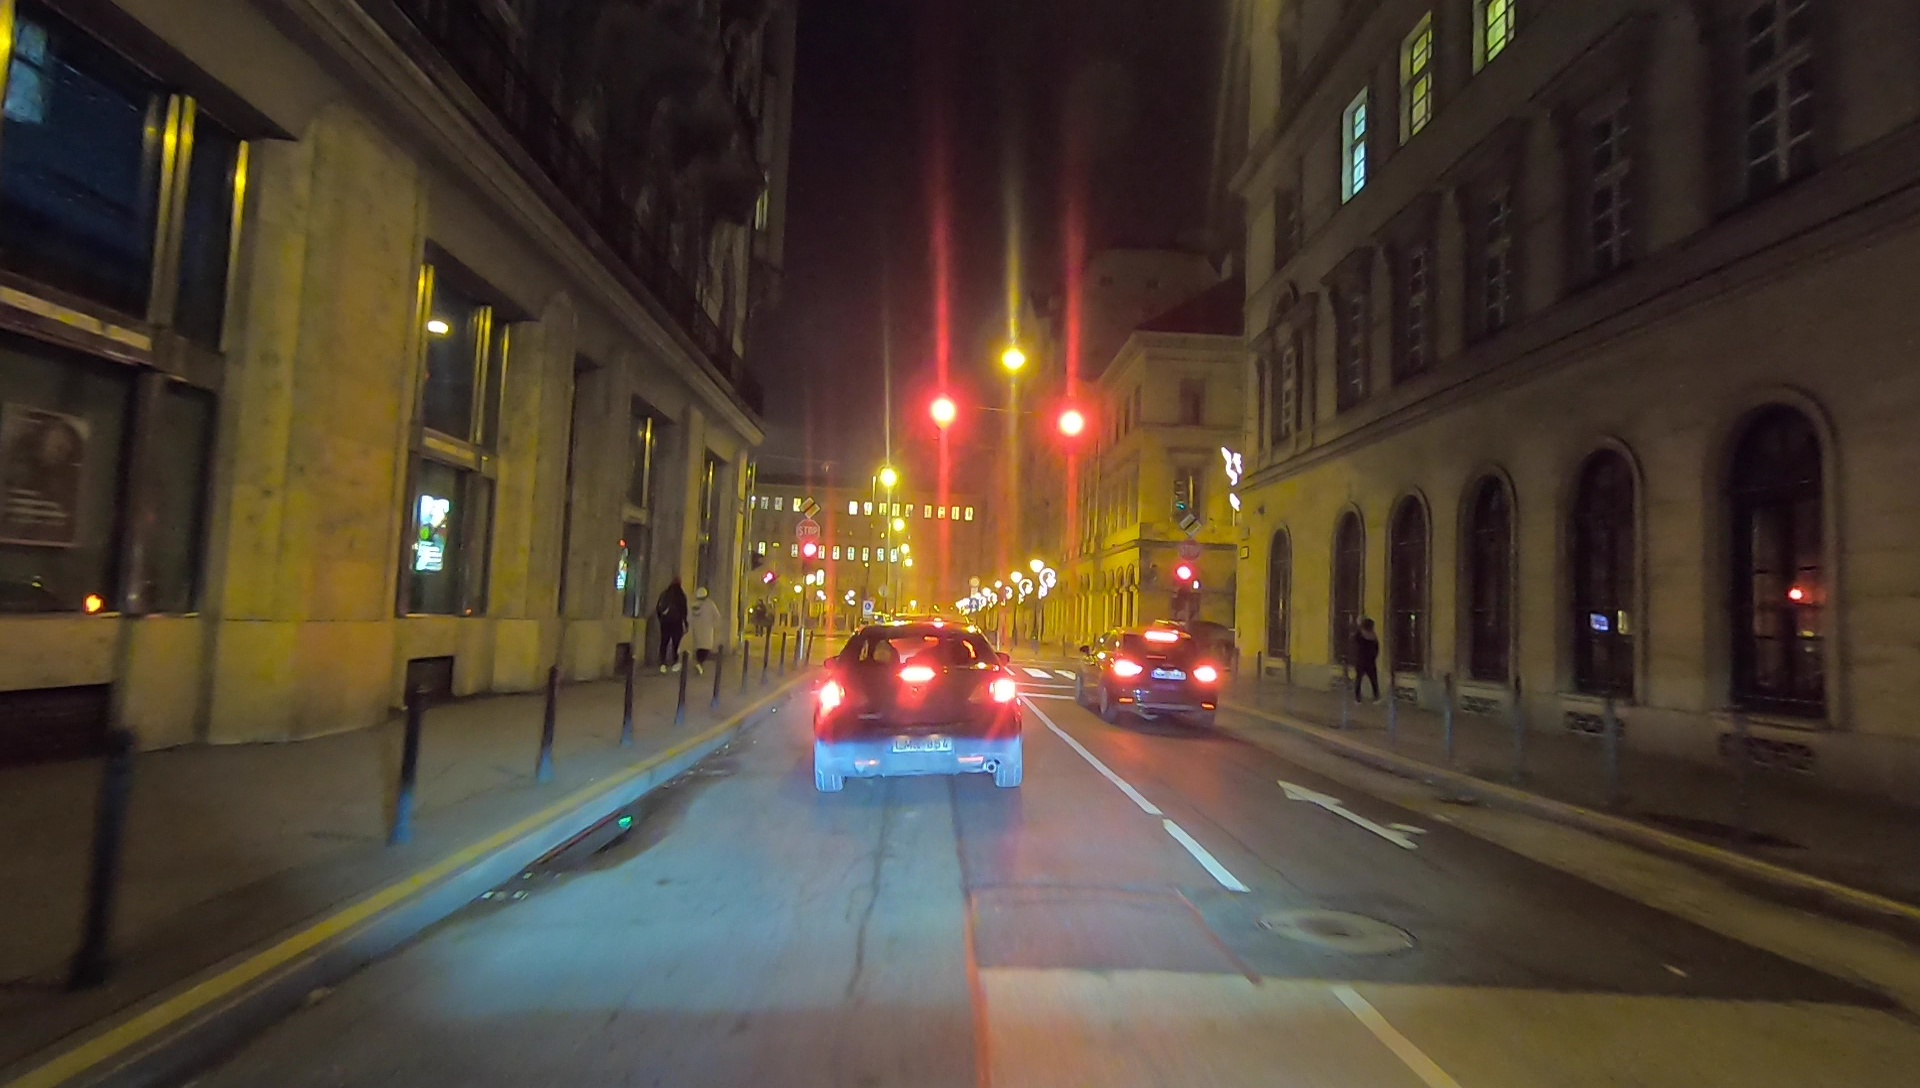person: (652, 582, 684, 680), (686, 586, 721, 669), (1351, 621, 1380, 708)
